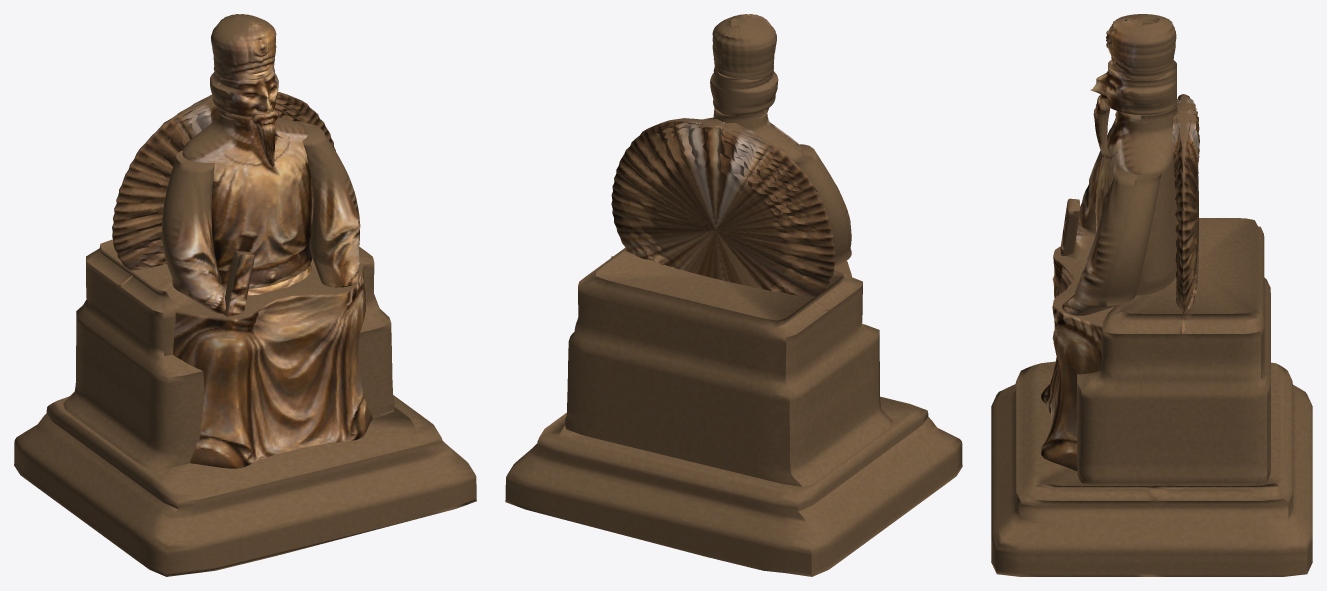
File: chu-van-an-seated-web-v3.glb
3 renders of one model, left to right at view 1: azimuth 30°, elevation 25°; view 2: azimuth 150°, elevation 25°; view 3: azimuth 270°, elevation 25°, orthographic. The views are drawn at different scales.
Visible parts, largest first — view 1: StatueBase, SeatedLowerBody, Chair, TorsoRobe, Backrest, RightArmHand, LeftArmHand, Hat, Head, HeldObject, Beard; view 2: Chair, StatueBase, Backrest, Hat, RightArmHand, Head, TorsoRobe; view 3: StatueBase, Chair, LeftArmHand, TorsoRobe, SeatedLowerBody, Backrest, Hat, Head, RightArmHand, HeldObject, Beard.
Part boxes in pixels (box(x1,y1,x2,y2)): StatueBase: box(14, 395, 476, 576); SeatedLowerBody: box(172, 263, 372, 468); Chair: box(63, 239, 394, 469); TorsoRobe: box(182, 108, 313, 295); Backrest: box(112, 92, 335, 285); RightArmHand: box(162, 150, 226, 313); LeftArmHand: box(300, 122, 360, 294); Hat: box(211, 14, 276, 80); Head: box(210, 66, 278, 120); HeldObject: box(223, 251, 254, 329); Beard: box(252, 109, 278, 166); Chair: box(565, 247, 892, 486); StatueBase: box(505, 396, 962, 576); Backrest: box(611, 118, 835, 310); Hat: box(712, 14, 776, 79); RightArmHand: box(793, 144, 851, 265); Head: box(710, 67, 778, 118); TorsoRobe: box(704, 107, 803, 160); StatueBase: box(991, 361, 1312, 576); Chair: box(1077, 218, 1270, 489); LeftArmHand: box(1059, 167, 1161, 320); TorsoRobe: box(1095, 105, 1177, 295); SeatedLowerBody: box(1040, 246, 1113, 471); Backrest: box(1172, 94, 1199, 333); Hat: box(1106, 14, 1176, 82); Head: box(1090, 60, 1176, 122); RightArmHand: box(1067, 118, 1116, 259); HeldObject: box(1060, 198, 1079, 255); Beard: box(1093, 95, 1109, 159).
Size of the model in its own units: 0.8579 by 1.2 by 0.73.
Materials: 1 (1 with a texture image).
